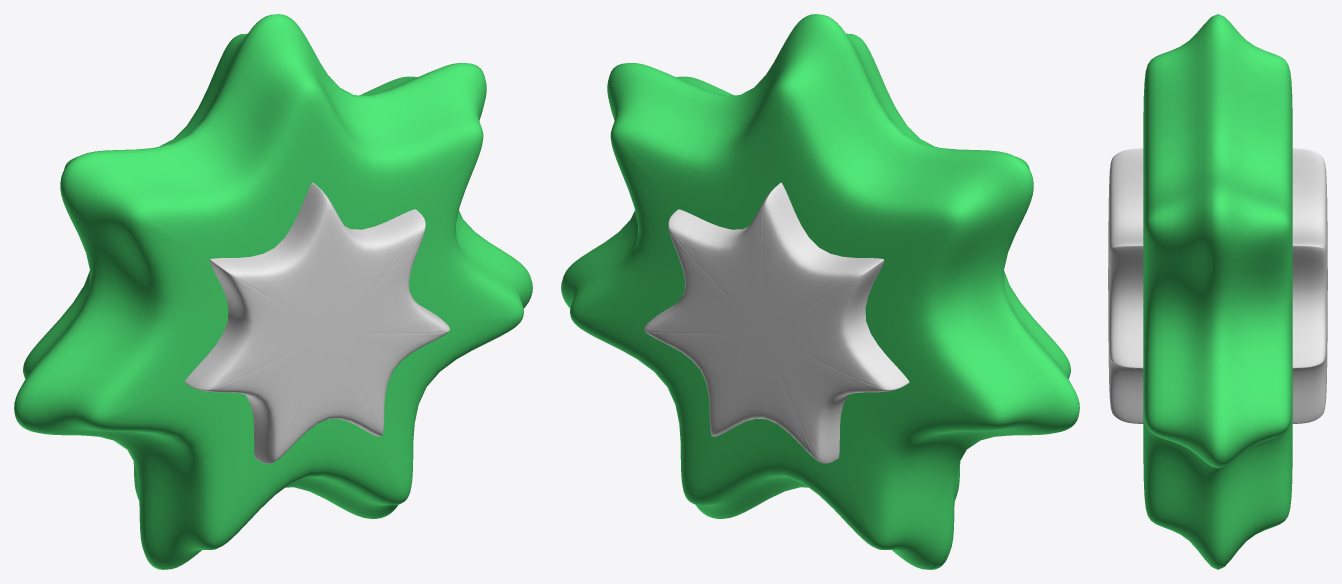
The model's file is star5.fbx.
3 renders of one model, left to right at view 1: azimuth 30°, elevation 25°; view 2: azimuth 150°, elevation 25°; view 3: azimuth 270°, elevation 25°, orthographic. The views are drawn at different scales.
Parts seen in each view (by area): view 1: Circle.012; view 2: Circle.012; view 3: Circle.012.
Part boxes in pixels (<box>): Circle.012: <box>14,14,532,569</box>; Circle.012: <box>561,14,1079,569</box>; Circle.012: <box>1108,14,1327,569</box>.
Bounding box in the file's own units: 0.9693 × 0.947 × 0.3754.
